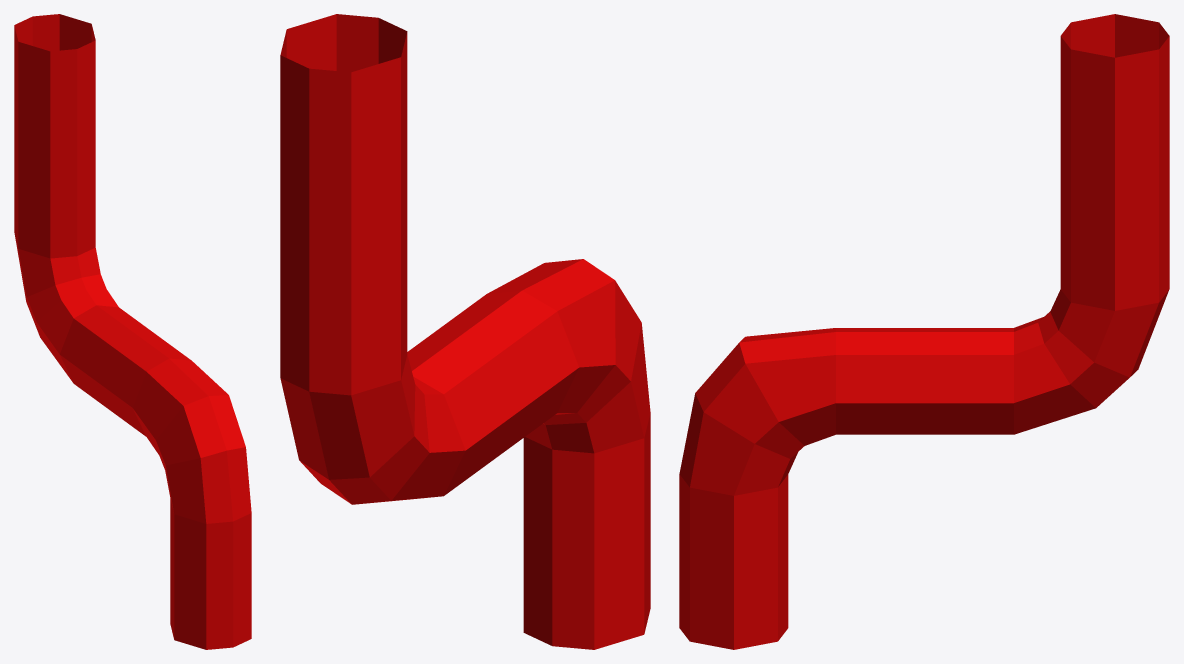
The model's file is c_pipe_6.fbx.
The picture shows the model from 3 angles, left to right: view 1: azimuth 30°, elevation 25°; view 2: azimuth 150°, elevation 25°; view 3: azimuth 270°, elevation 25°; orthographic projection. The views are drawn at different scales.
Visible parts, largest first — view 1: coll_pipe_6; view 2: coll_pipe_6; view 3: coll_pipe_6.
Boxes of the visible parts, <box> form: coll_pipe_6: <box>14,14,251,649</box>; coll_pipe_6: <box>280,14,650,649</box>; coll_pipe_6: <box>679,14,1169,649</box>.
Bounding box in the file's own units: 95.11 × 600 × 450.
